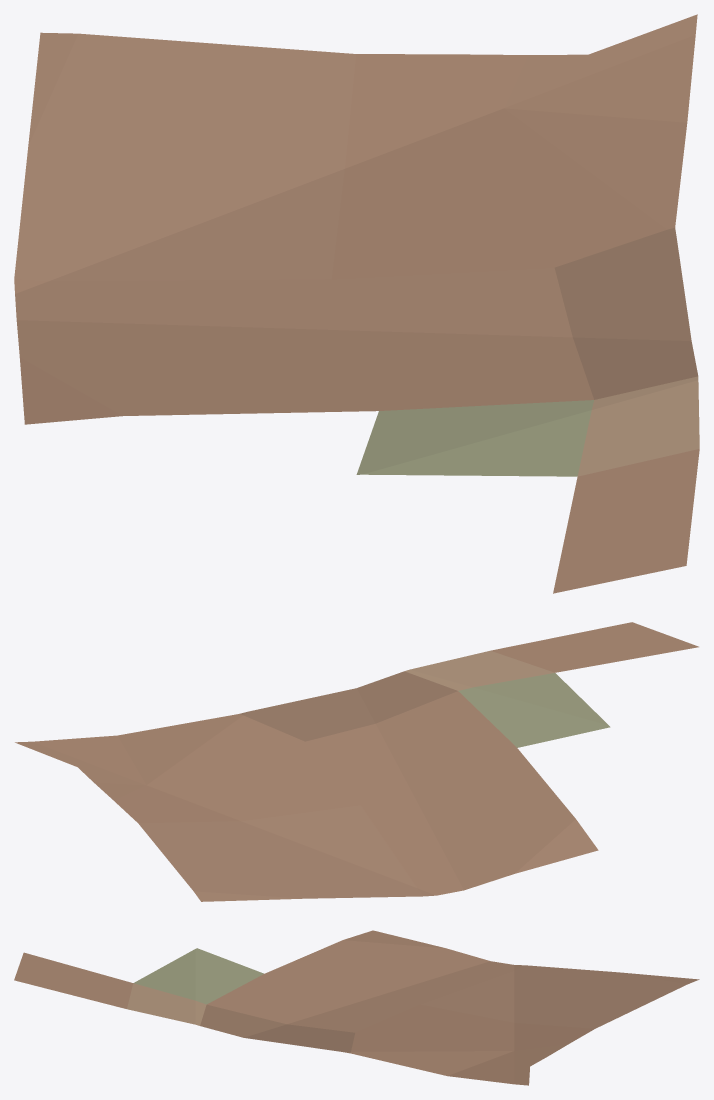
File: farm_-49_-39_soil.glb
The picture shows the model from 3 angles, top to bottom: view 1: azimuth 30°, elevation 25°; view 2: azimuth 150°, elevation 25°; view 3: azimuth 270°, elevation 25°; orthographic projection. The views are drawn at different scales.
Visible parts, largest first — view 1: geometry_0; view 2: geometry_0; view 3: geometry_0.
Part boxes in pixels (bbox=[...]): geometry_0: bbox=[14, 14, 699, 593]; geometry_0: bbox=[15, 622, 698, 901]; geometry_0: bbox=[14, 930, 699, 1085].
Size of the model in its own units: 120 by 14.15 by 172.
